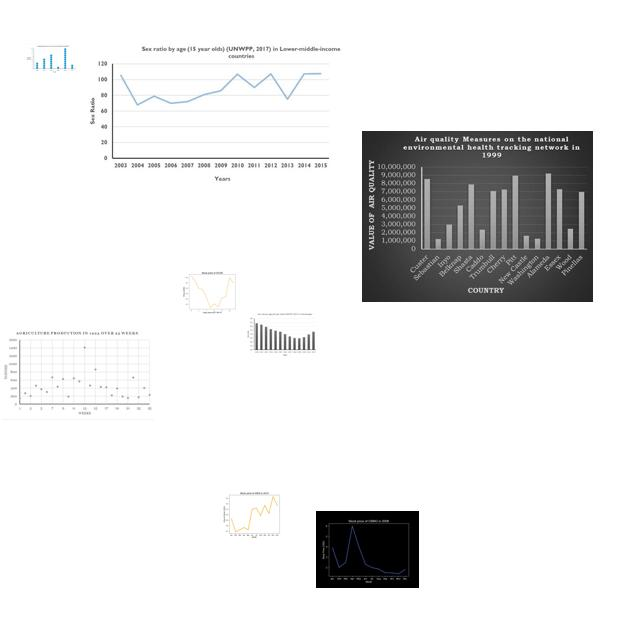Graph: (362, 131, 593, 302), (89, 36, 341, 185), (2, 330, 154, 420), (316, 511, 419, 588), (220, 489, 287, 539), (245, 312, 318, 357), (179, 269, 244, 314), (25, 44, 77, 74)
